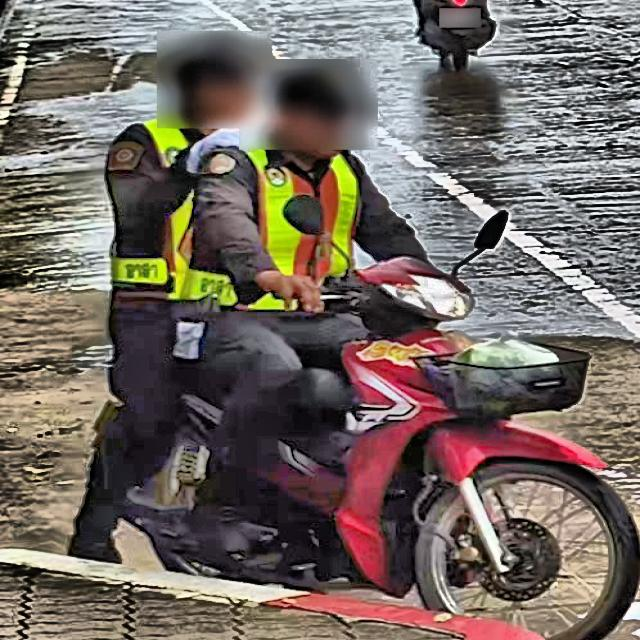motorcycle: (85, 218, 640, 640)
